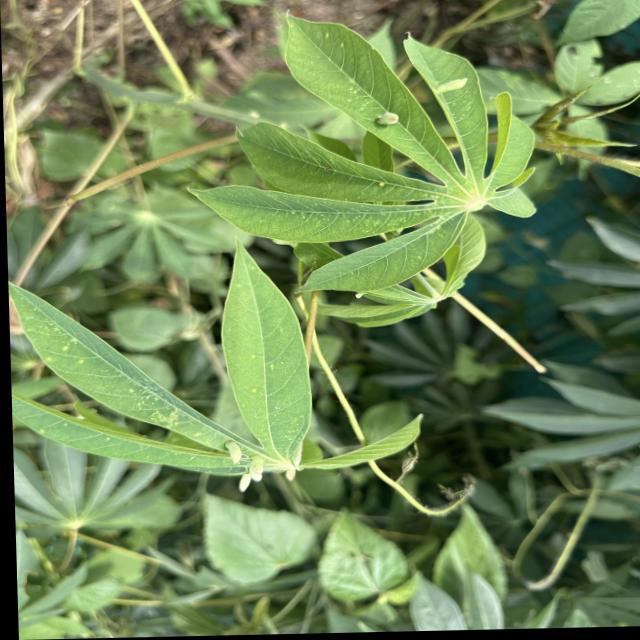Mosca: (226, 453, 276, 501), (280, 443, 318, 498), (428, 66, 475, 102), (209, 427, 245, 469), (373, 105, 414, 136)
